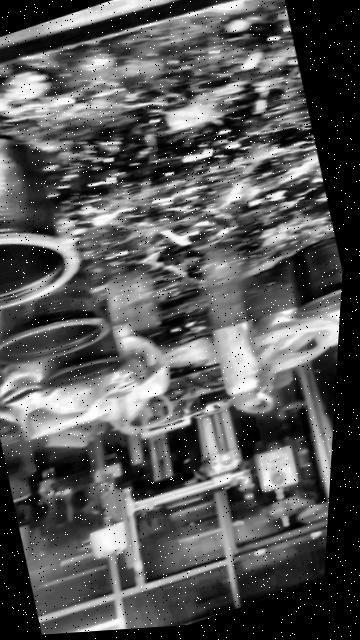pot: (0, 94, 130, 316), (0, 271, 109, 364), (45, 302, 124, 387), (291, 237, 342, 318)
